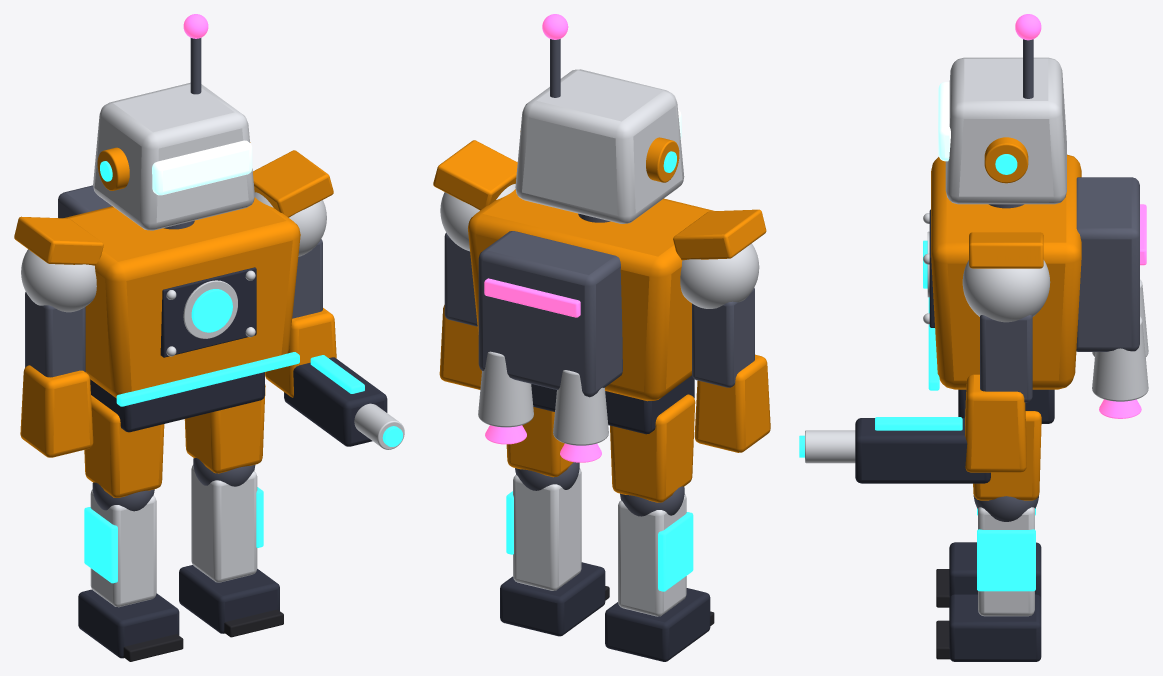
File: bolt.glb
3 renders of one model, left to right at view 1: azimuth 30°, elevation 25°; view 2: azimuth 150°, elevation 25°; view 3: azimuth 270°, elevation 25°, orthographic. The views are drawn at different scales.
Visible parts, largest first — view 1: Cube.011, Cube.024, Cube.007, Cube.018, Cube.004, Cube.002, Cube.009, Cube.010, Cube.022, Cube, Cube.005, Cube.017 (+21 smaller); view 2: Cube.024, Cube.011, Cube.014, Cube.007, Cube.004, Cube.018, Cube.002, Cube.005, Cube, Cube.017, Cube.019, Sphere.006 (+17 smaller); view 3: Cube.011, Cube.024, Cube.014, Cube.022, Cube.021, Cube.005, Sphere.007, Cube.020, Cube.008, Cone.002, Cube.019, Cube.009 (+14 smaller).
Boxes of the visible parts, bbox=[...] form: Cube.011: bbox=[64, 197, 300, 398]; Cube.024: bbox=[93, 82, 254, 230]; Cube.007: bbox=[191, 465, 257, 582]; Cube.018: bbox=[20, 365, 93, 457]; Cube.004: bbox=[84, 395, 164, 497]; Cube.002: bbox=[90, 489, 156, 607]; Cube.009: bbox=[184, 384, 265, 473]; Cube.010: bbox=[90, 372, 264, 432]; Cube.022: bbox=[284, 357, 387, 446]; Cube: bbox=[78, 589, 179, 658]; Cube.005: bbox=[179, 565, 279, 633]; Cube.017: bbox=[25, 292, 85, 377]; Cube.024: bbox=[515, 69, 684, 223]; Cube.011: bbox=[468, 189, 714, 401]; Cube.014: bbox=[478, 231, 622, 397]; Cube.007: bbox=[513, 468, 581, 590]; Cube.004: bbox=[610, 394, 695, 502]; Cube.018: bbox=[694, 354, 770, 452]; Cube.002: bbox=[618, 494, 686, 616]; Cube.005: bbox=[500, 562, 605, 636]; Cube: bbox=[605, 588, 710, 661]; Cube.017: bbox=[692, 287, 754, 387]; Cube.019: bbox=[433, 140, 517, 210]; Sphere.006: bbox=[680, 243, 759, 308]; Cube.011: bbox=[931, 154, 1081, 389]; Cube.024: bbox=[945, 57, 1066, 204]; Cube.014: bbox=[1076, 177, 1139, 351]; Cube.022: bbox=[855, 418, 990, 483]; Cube.021: bbox=[965, 374, 1026, 472]; Cube.005: bbox=[949, 594, 1041, 661]; Sphere.007: bbox=[962, 260, 1050, 322]; Cube.020: bbox=[980, 315, 1032, 402]; Cube.008: bbox=[977, 529, 1035, 591]; Cone.002: bbox=[1092, 316, 1148, 401]; Cube.019: bbox=[969, 232, 1043, 268]; Cube.009: bbox=[973, 411, 1041, 500].
Bounding box in the file's own units: 1.64 × 3.14 × 1.59.
